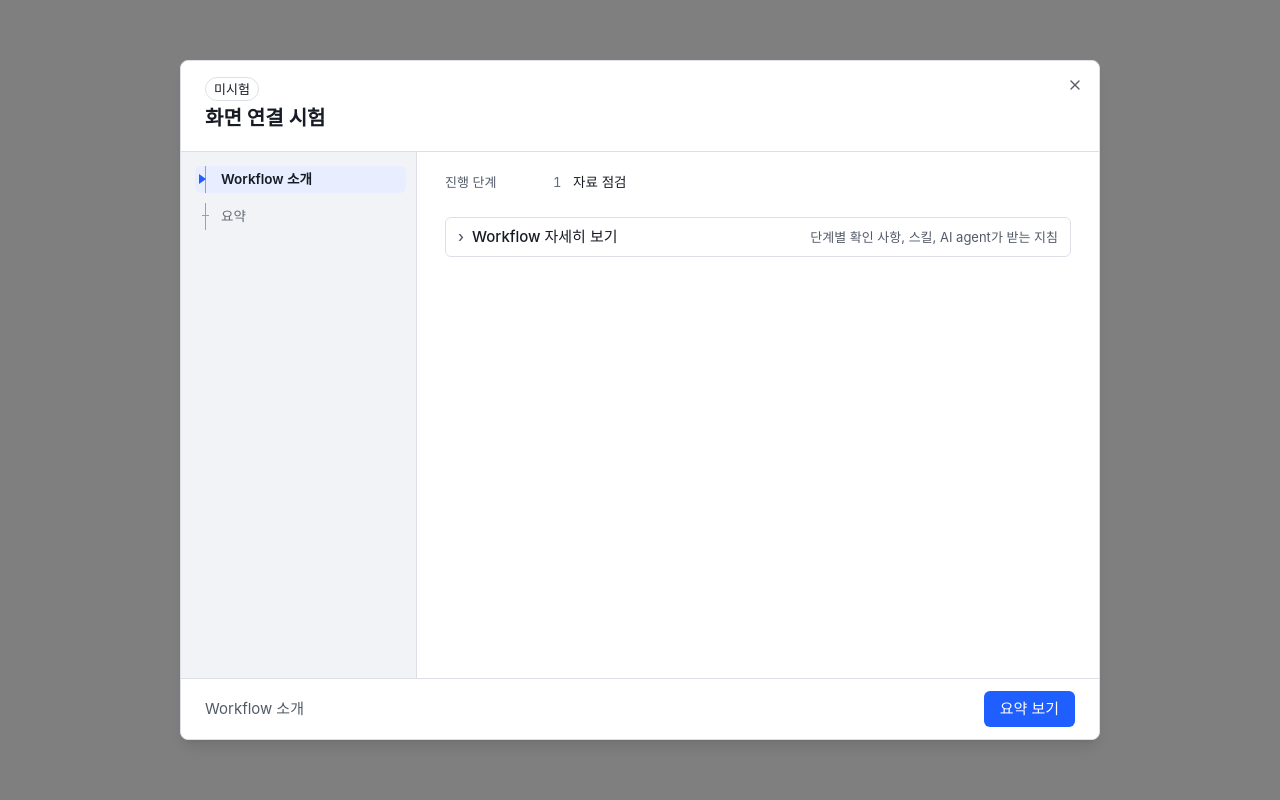
Test: mounts the chat-target instruction disclosure in the start summary
This screenshot has width=1280, height=800.
// No inputs or conditions: the introduction leads straight to the summary.
Click the button "요약 보기" at [1029, 709], box [984, 691, 1075, 727]
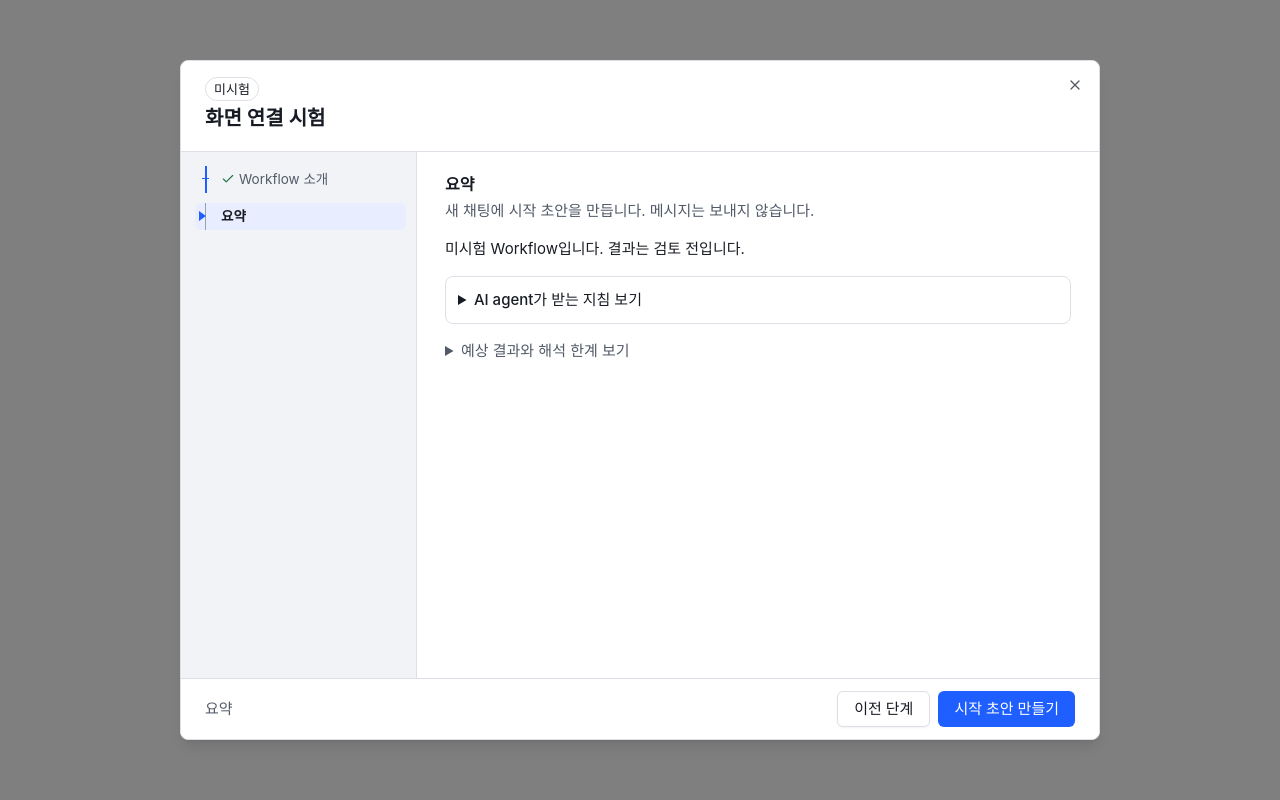
Click the heading "AI agent가 받는 지침 보기" at [558, 299], box [474, 290, 642, 308]
(page scrolled)
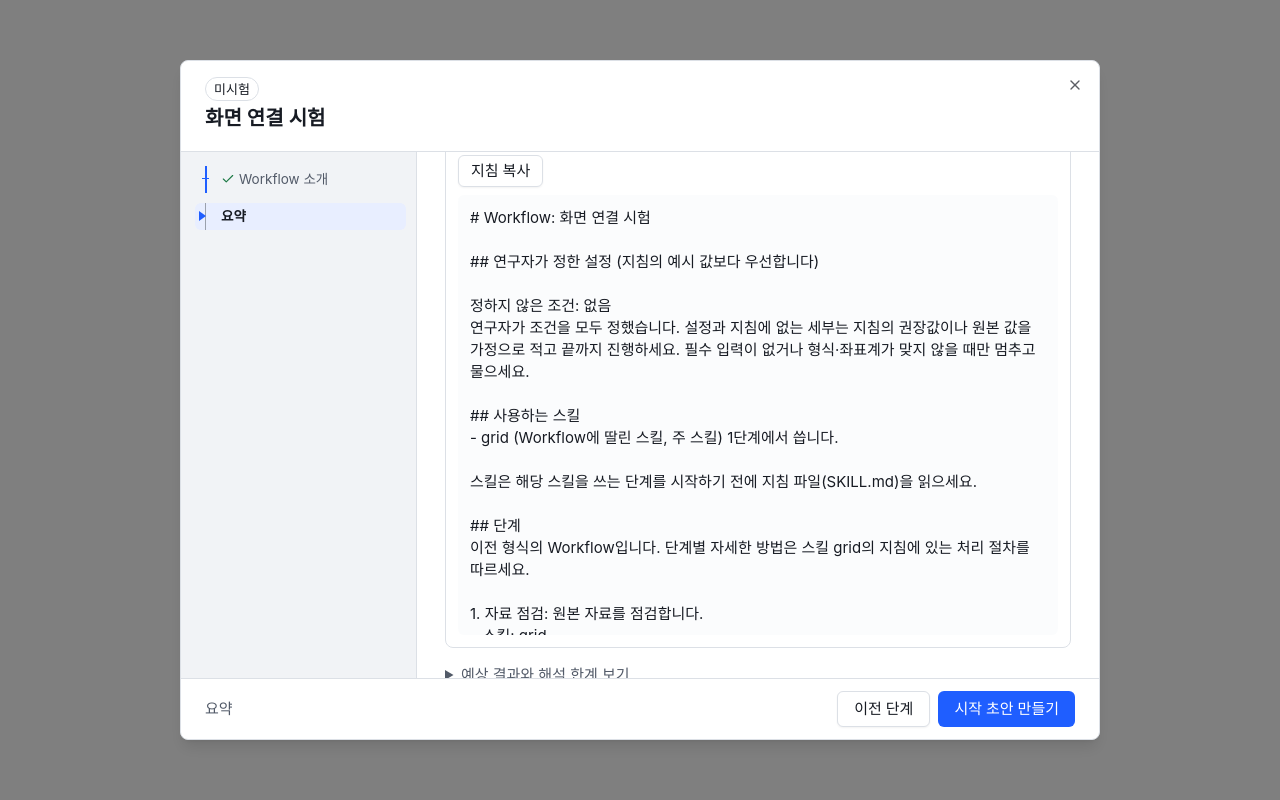
Expected: the text "# Workflow: 화면 연결 시험" shows "정하지 않은 조건: 없음", [470, 208, 1040, 678]
